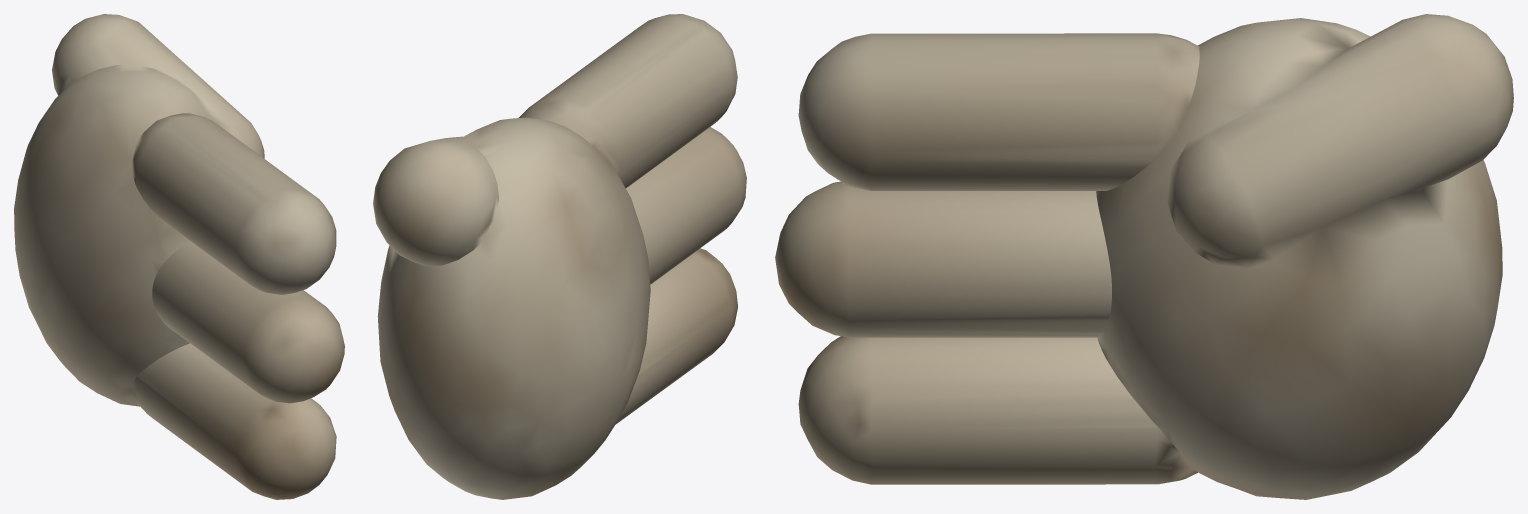
The model's file is amanita-scout-hand1.glb.
The picture shows the model from 3 angles, left to right: view 1: azimuth 30°, elevation 25°; view 2: azimuth 150°, elevation 25°; view 3: azimuth 270°, elevation 25°; orthographic projection. The views are drawn at different scales.
Visible parts, largest first — view 1: body; view 2: body; view 3: body.
Boxes of the visible parts, box(x1,y1,x2,y2) form: body: box(14, 14, 344, 499); body: box(373, 14, 746, 499); body: box(775, 14, 1513, 499).
Size of the model in its own units: 0.1452 by 0.2303 by 0.3195.
